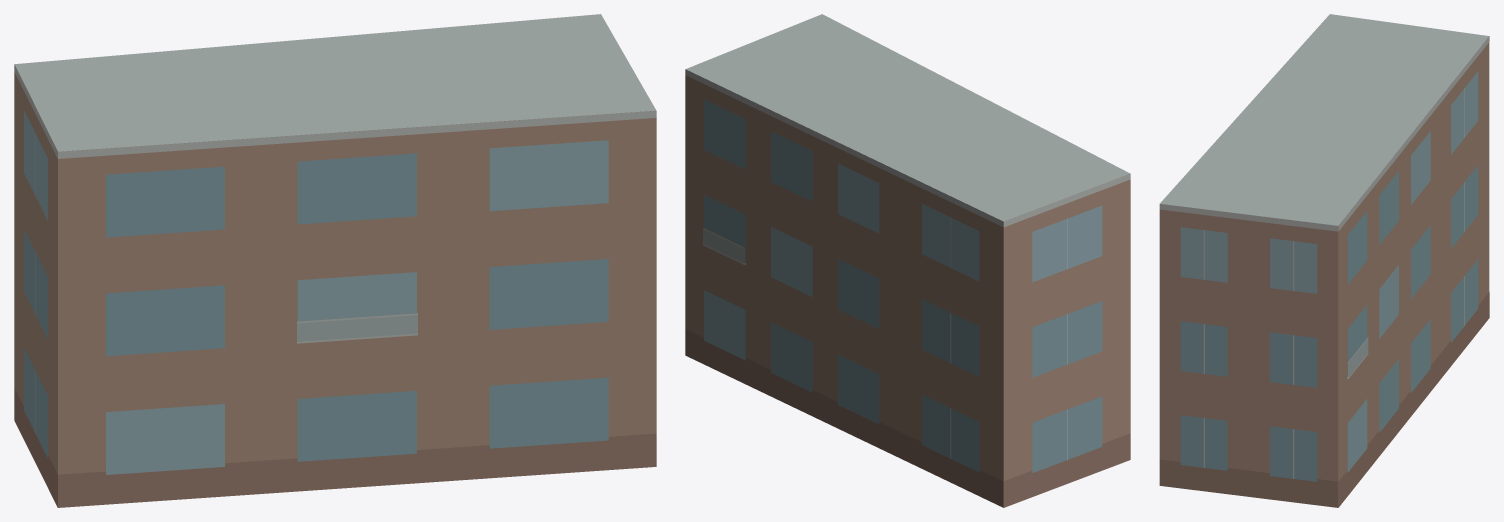
File: survey-upis-32498828.glb
3 views of the same model, side by side, from view 1: azimuth 30°, elevation 25°; view 2: azimuth 150°, elevation 25°; view 3: azimuth 270°, elevation 25° (orthographic). The views are drawn at different scales.
Visible parts, largest first — view 1: survey-upis-32498828.tmp; view 2: survey-upis-32498828.tmp; view 3: survey-upis-32498828.tmp.
Part boxes in pixels (x1,y1,x2,y2): survey-upis-32498828.tmp: [14, 14, 656, 507]; survey-upis-32498828.tmp: [685, 14, 1130, 507]; survey-upis-32498828.tmp: [1159, 14, 1489, 507].
Bounding box in the file's own units: 19.35 × 12 × 12.73.
